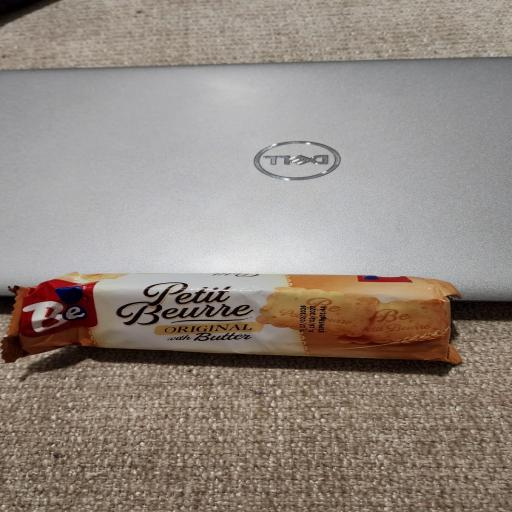petit_beurre: (0, 244, 504, 420)
